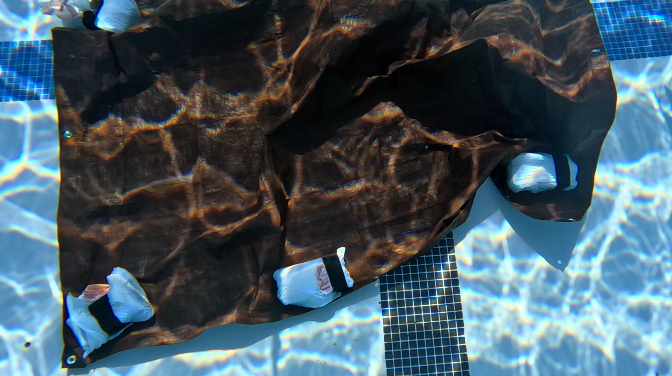sandbag: (38, 0, 618, 368)
